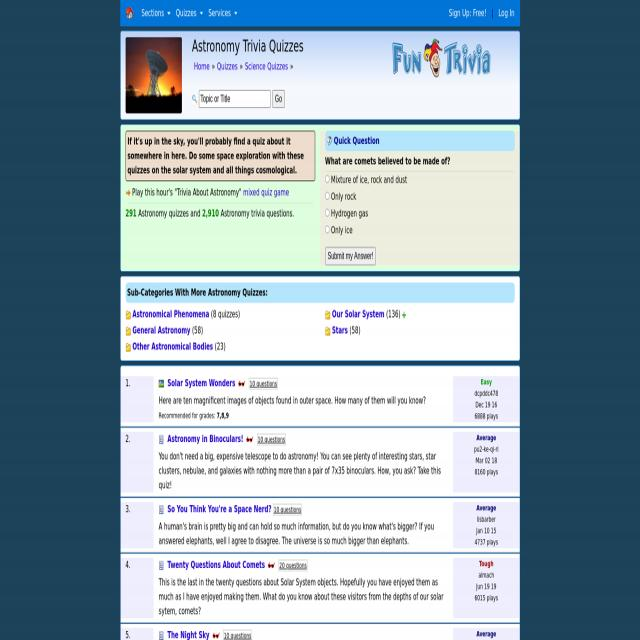button: (126, 37, 182, 113), (392, 37, 492, 78), (139, 1, 173, 25), (206, 1, 240, 25), (173, 1, 206, 25), (273, 90, 285, 108), (125, 6, 134, 21), (237, 380, 247, 387), (245, 436, 255, 443), (267, 562, 277, 569), (326, 136, 332, 147), (125, 310, 131, 320), (325, 310, 331, 320), (125, 326, 131, 336), (325, 326, 331, 336), (125, 342, 131, 352), (158, 378, 164, 388), (158, 434, 164, 444), (158, 504, 164, 514), (158, 560, 164, 570), (192, 94, 197, 104), (211, 633, 221, 638), (126, 188, 130, 197), (158, 633, 164, 638)
field: (199, 90, 271, 108), (325, 247, 376, 265), (325, 175, 329, 183), (325, 192, 329, 200), (325, 208, 329, 216), (325, 226, 329, 233)
